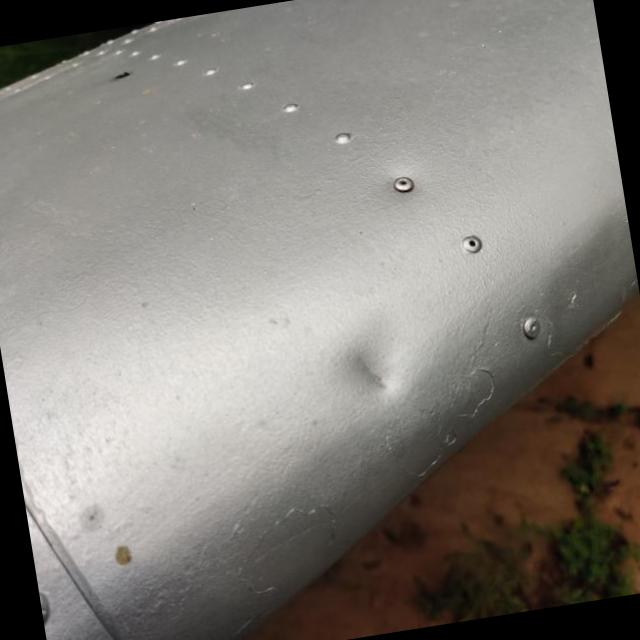Dent: (303, 295, 425, 431)
